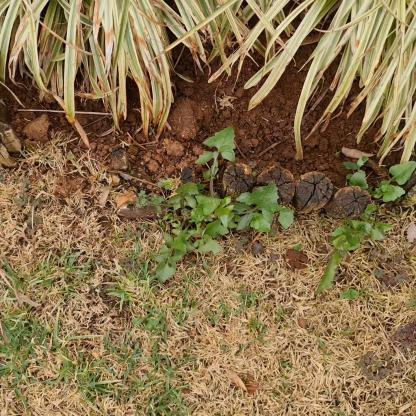Weeds: (134, 125, 295, 285), (314, 154, 415, 302)
